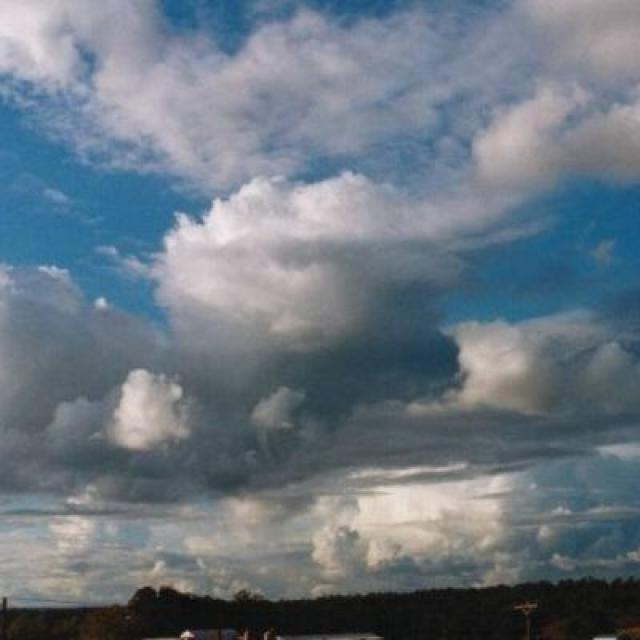Cu: (1, 18, 640, 443)
